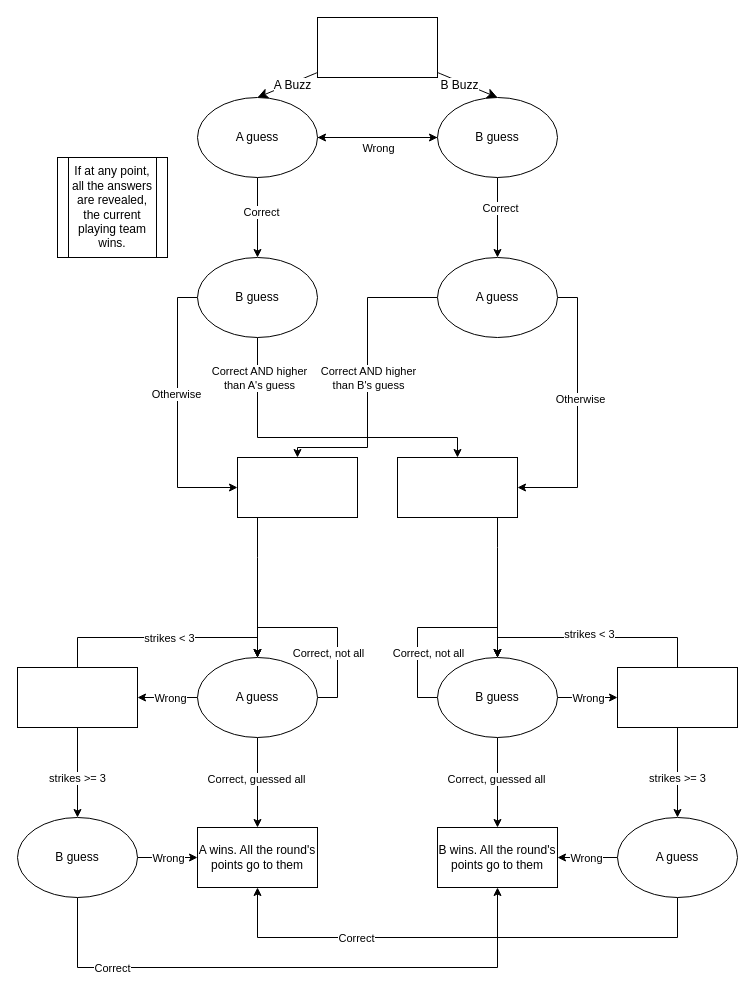
Some shapes in this 755 by 993 pixel diagram are drawn without their labels. Each missing label, with the box of its shape:
A plays: (236, 456, 358, 518)
B plays: (396, 456, 518, 518)
Increase A strike counter: (16, 666, 138, 728)
Increase B strike counter: (616, 666, 738, 728)
Read the question: (316, 16, 438, 78)
